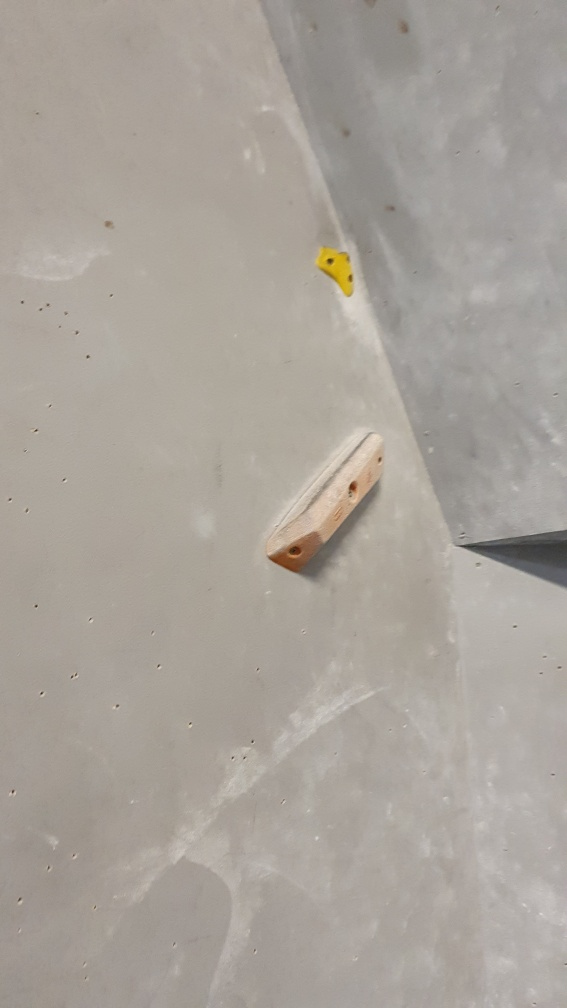Pinch: (264, 425, 387, 576)
